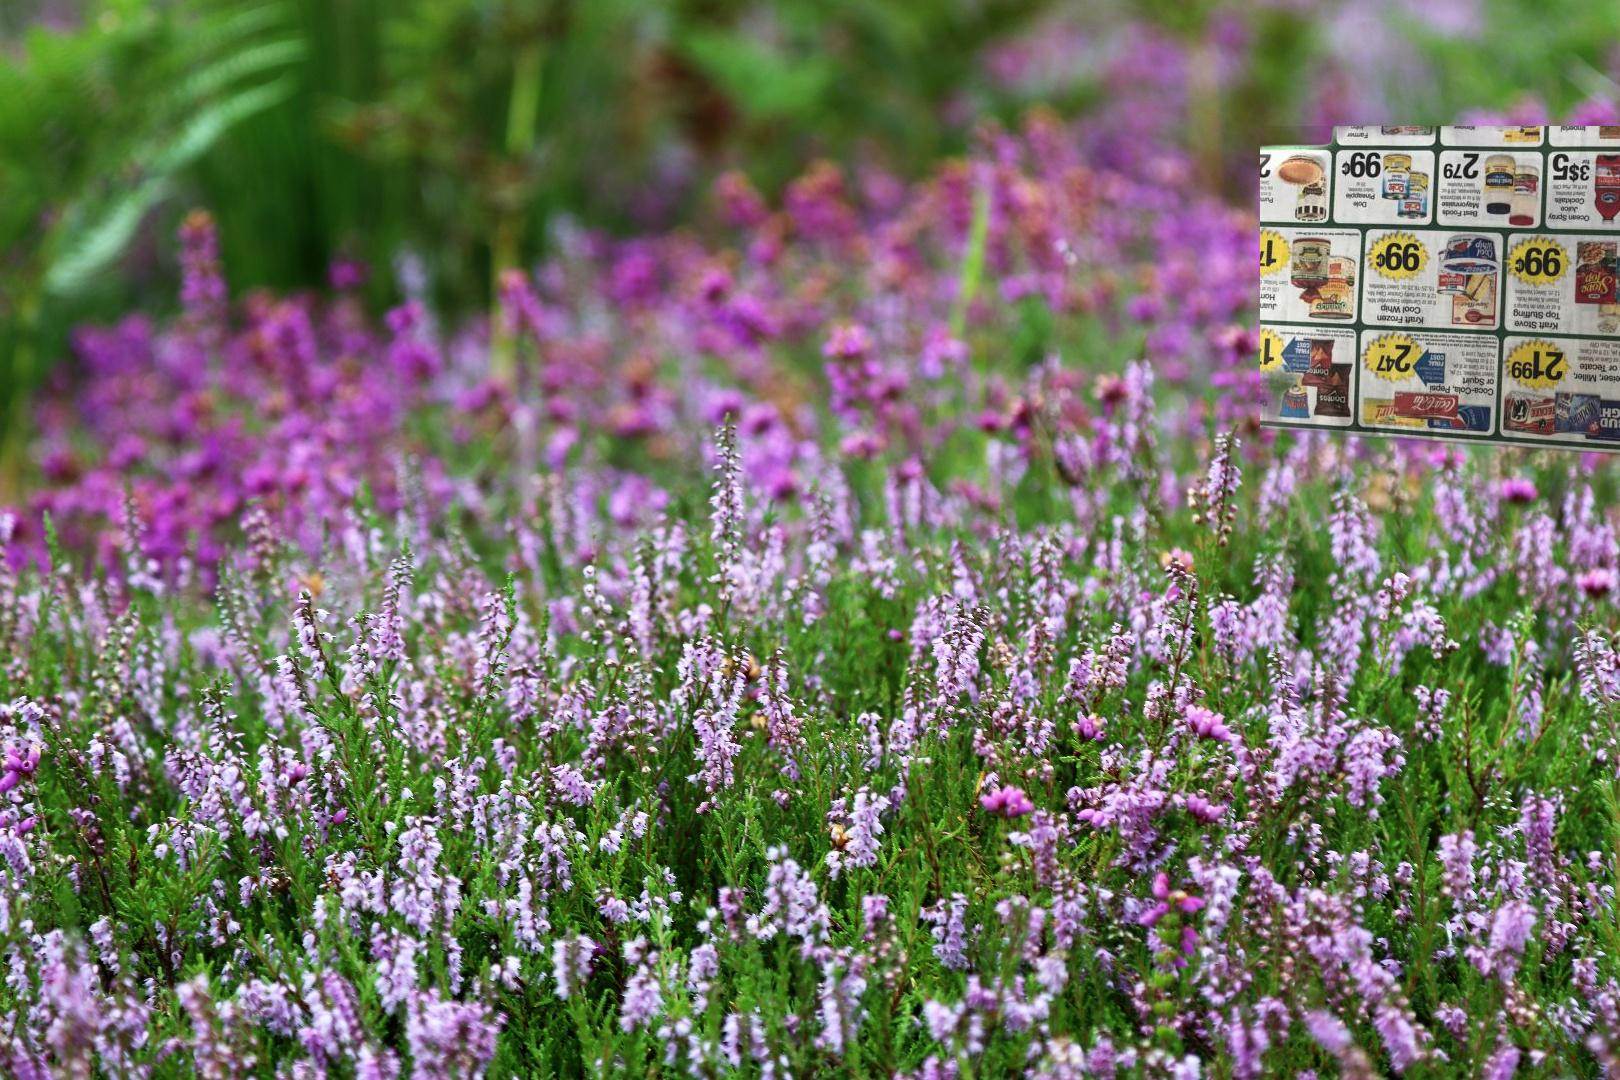paper: (1260, 127, 1620, 460)
